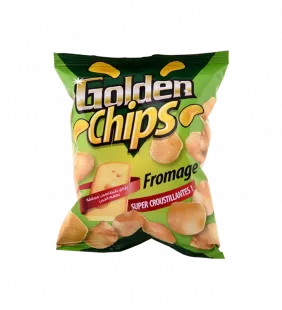GOLDEN CHIPS: (44, 43, 237, 269)
